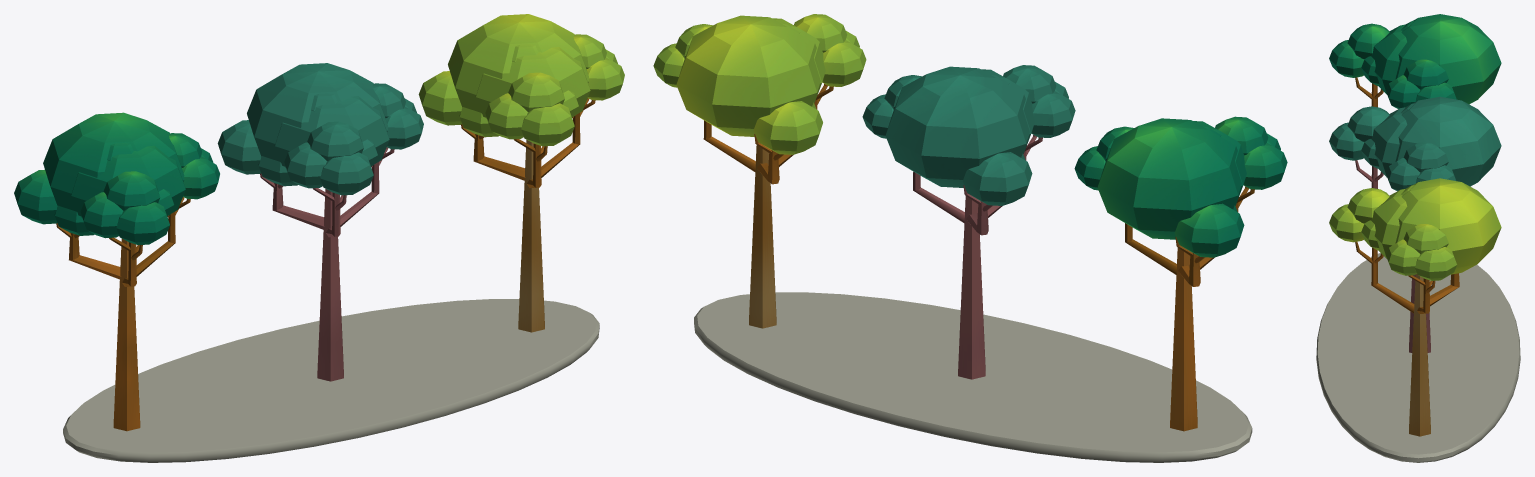
The model's file is lowpoly_tree_set.glb.
The picture shows the model from 3 angles, left to right: view 1: azimuth 30°, elevation 25°; view 2: azimuth 150°, elevation 25°; view 3: azimuth 270°, elevation 25°; orthographic projection. The views are drawn at different scales.
Parts seen in each view (by area): view 1: Cylinder, Tree_1, Tree_3, Tree_2; view 2: Cylinder, Tree_2, Tree_3, Tree_1; view 3: Cylinder, Tree_1, Tree_3, Tree_2.
Part boxes in pixels (x1,y1,x2,y2): Cylinder: (63,299,599,462); Tree_1: (418,14,624,332); Tree_3: (217,63,423,381); Tree_2: (14,112,219,431); Cylinder: (694,292,1252,462); Tree_2: (1074,116,1287,431); Tree_3: (862,65,1075,379); Tree_1: (653,14,866,328); Cylinder: (1316,253,1520,462); Tree_1: (1329,178,1501,436); Tree_3: (1329,96,1501,352); Tree_2: (1329,14,1501,108).
Bounding box in the file's own units: 1758 × 886 × 645.
Materials: 4 (3 with a texture image).
